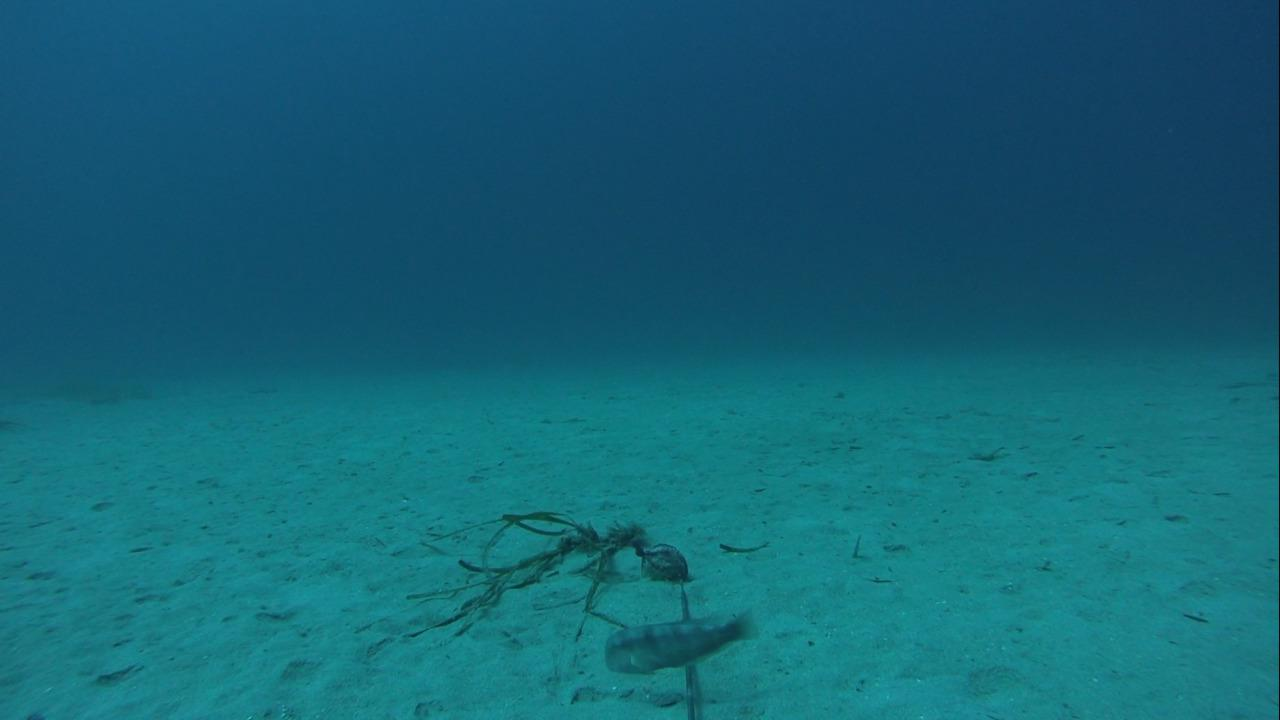raor: (598, 607, 765, 681)
